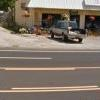Car: (46, 17, 88, 47)
